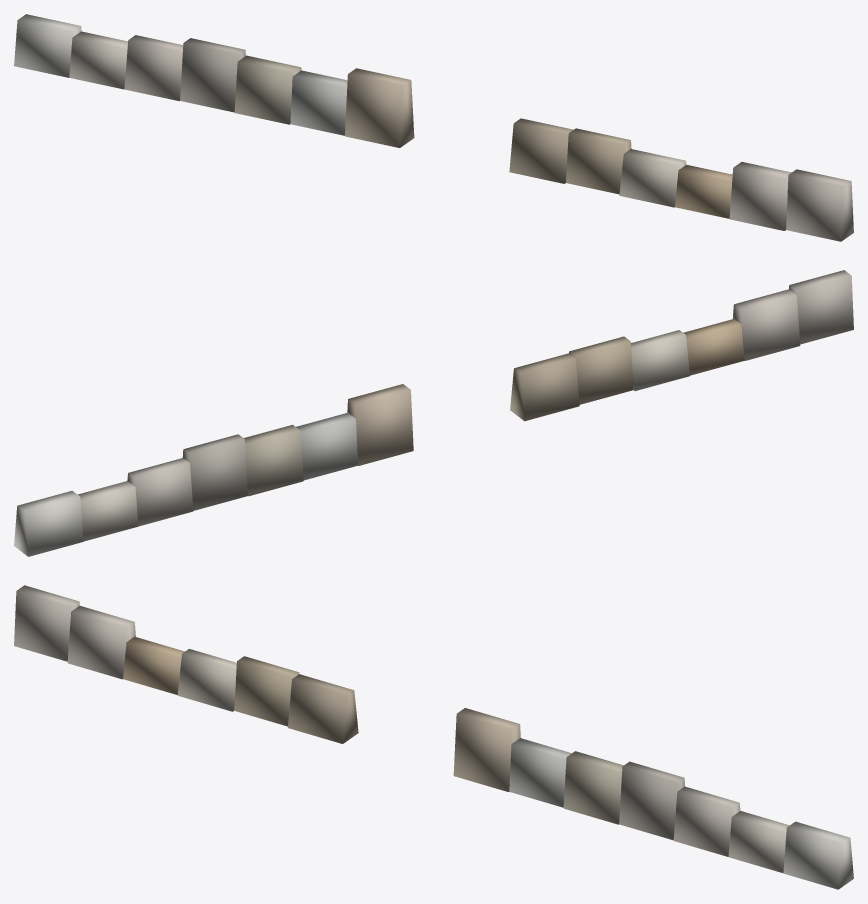
Rendered from farm_-27_-32_collision.glb.
The picture shows the model from 3 angles, top to bottom: view 1: azimuth 90°, elevation 25°; view 2: azimuth 150°, elevation 25°; view 3: azimuth 270°, elevation 25°; orthographic projection.
Visible parts, largest first — view 1: geometry_0; view 2: geometry_0; view 3: geometry_0.
Boxes of the visible parts, bbox=[...] form: geometry_0: bbox=[14, 14, 853, 241]; geometry_0: bbox=[14, 270, 853, 556]; geometry_0: bbox=[14, 585, 853, 889].
Size of the model in its own units: 12.17 by 2.24 by 19.67.
